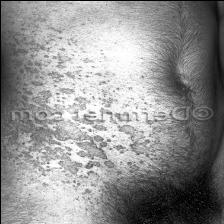Non-Cancerous Skin Condition: (0, 122, 157, 182), (3, 24, 112, 108)
